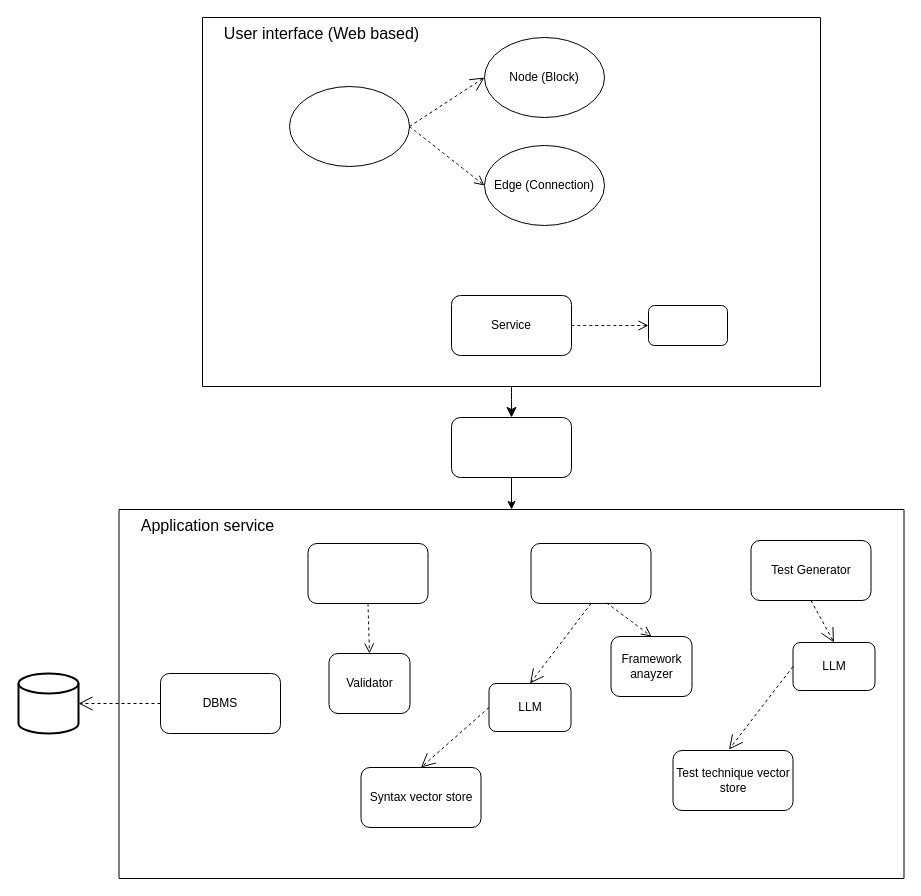
Some shapes in this 921 by 896 pixel diagram are drawn without their labels. Each missing label, with the centre of its shape:
"Axios" goes at (x=688, y=325).
"Business Logic Analyzer" goes at (x=590, y=573).
"Diagram" goes at (x=349, y=126).
"Mysql database" goes at (x=48, y=703).
"Project manager" goes at (x=367, y=573).
"Request handler" goes at (x=511, y=447).
